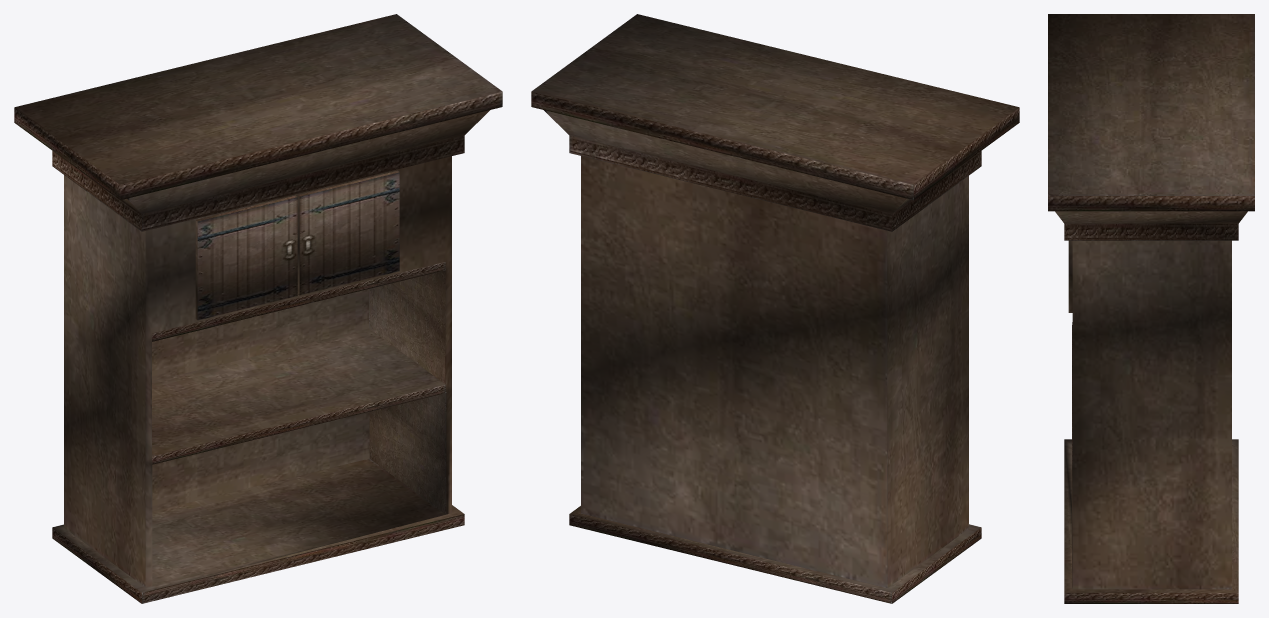
Rendered from KM_VOB_UNFINISHED_WARDROBE_02.glb.
3 renders of one model, left to right at view 1: azimuth 30°, elevation 25°; view 2: azimuth 150°, elevation 25°; view 3: azimuth 270°, elevation 25°, orthographic. The views are drawn at different scales.
Parts seen in each view (by area): view 1: Mesh; view 2: Mesh; view 3: Mesh.
Boxes of the visible parts, x1,y1,x2,y2 form: Mesh: [14, 14, 502, 603]; Mesh: [531, 14, 1019, 603]; Mesh: [1048, 14, 1254, 603].
Bounding box in the file's own units: 1.41 × 1.53 × 0.6778.
1 material, 1 textured.
